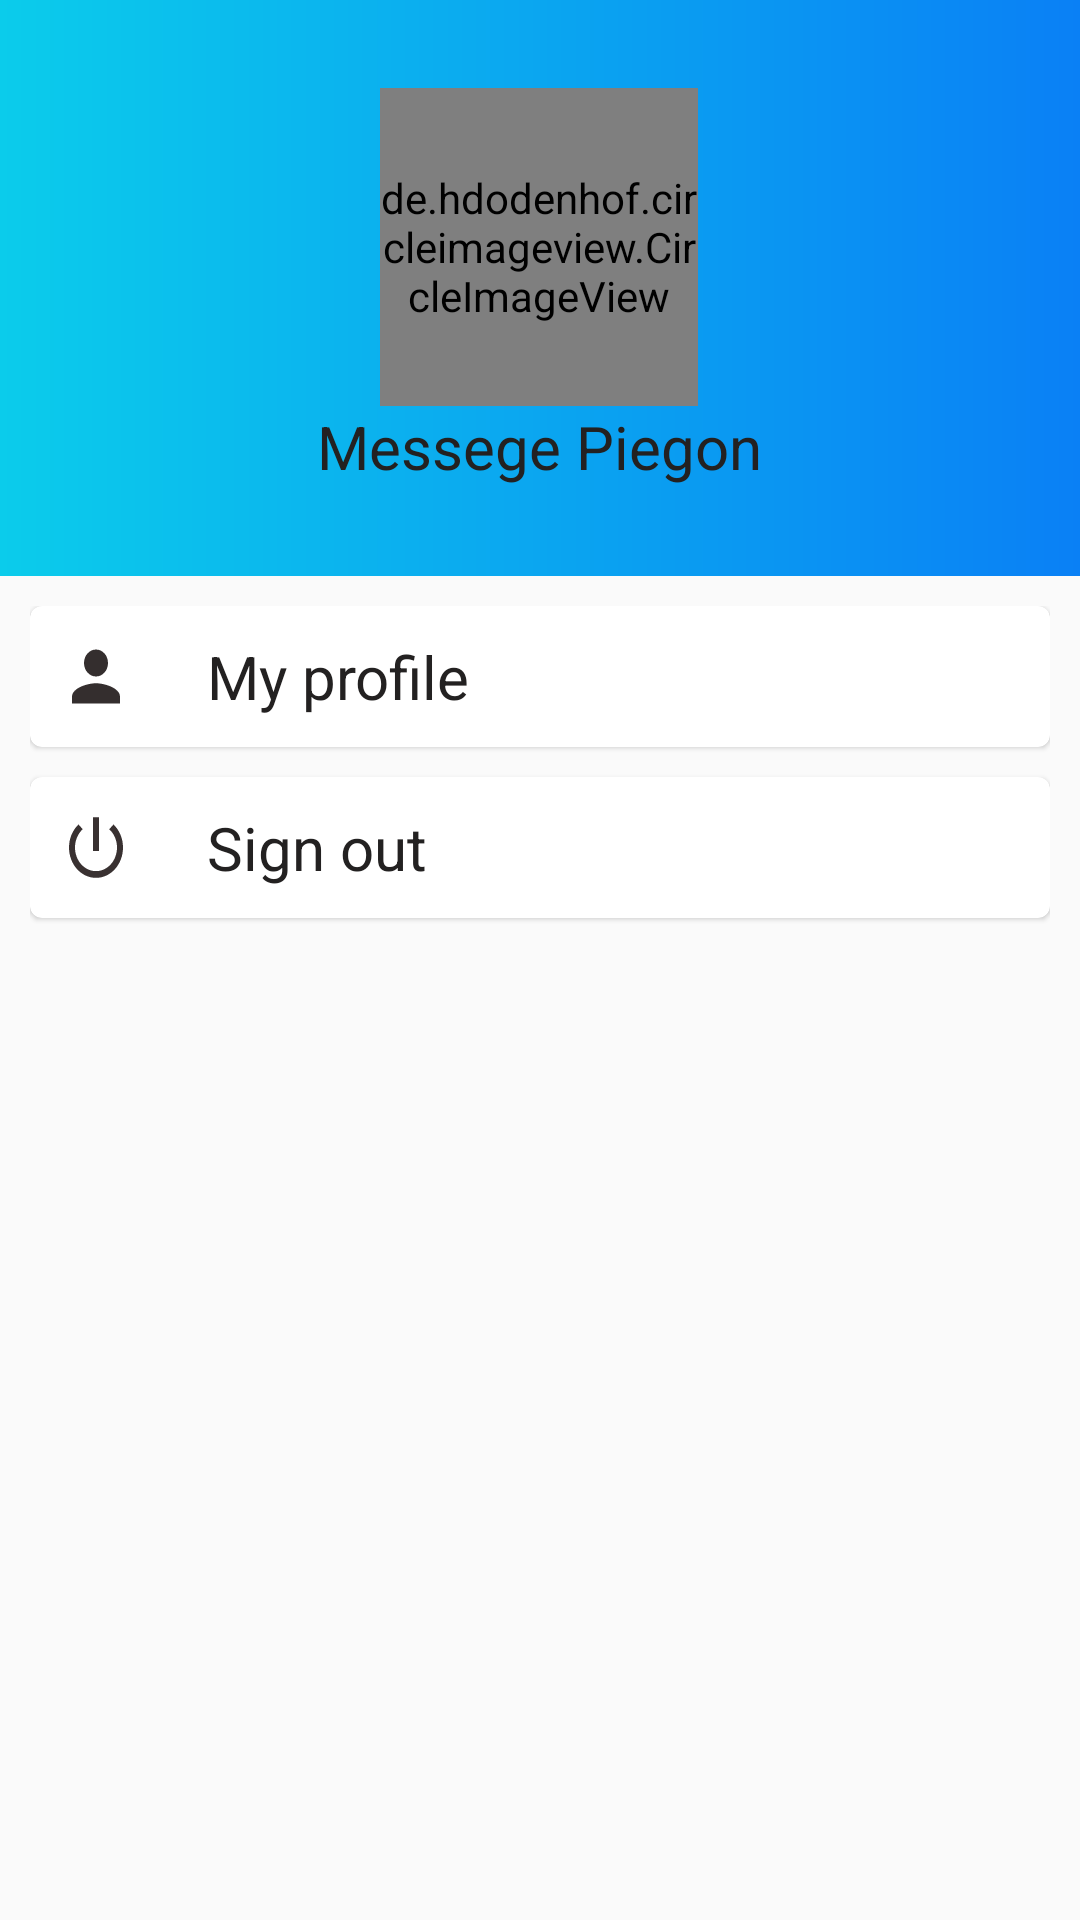

Where to tap for icons on this 1080 × 1920 app screen, as point (x, y):
person: point (96, 676)
power settings: point (96, 847)
